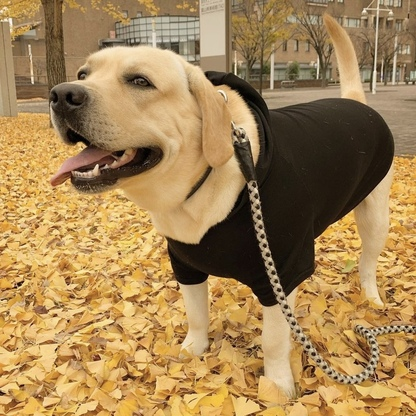labrado: (44, 11, 397, 408)
